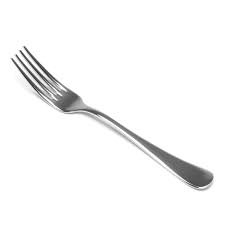fork: (7, 43, 218, 192)
